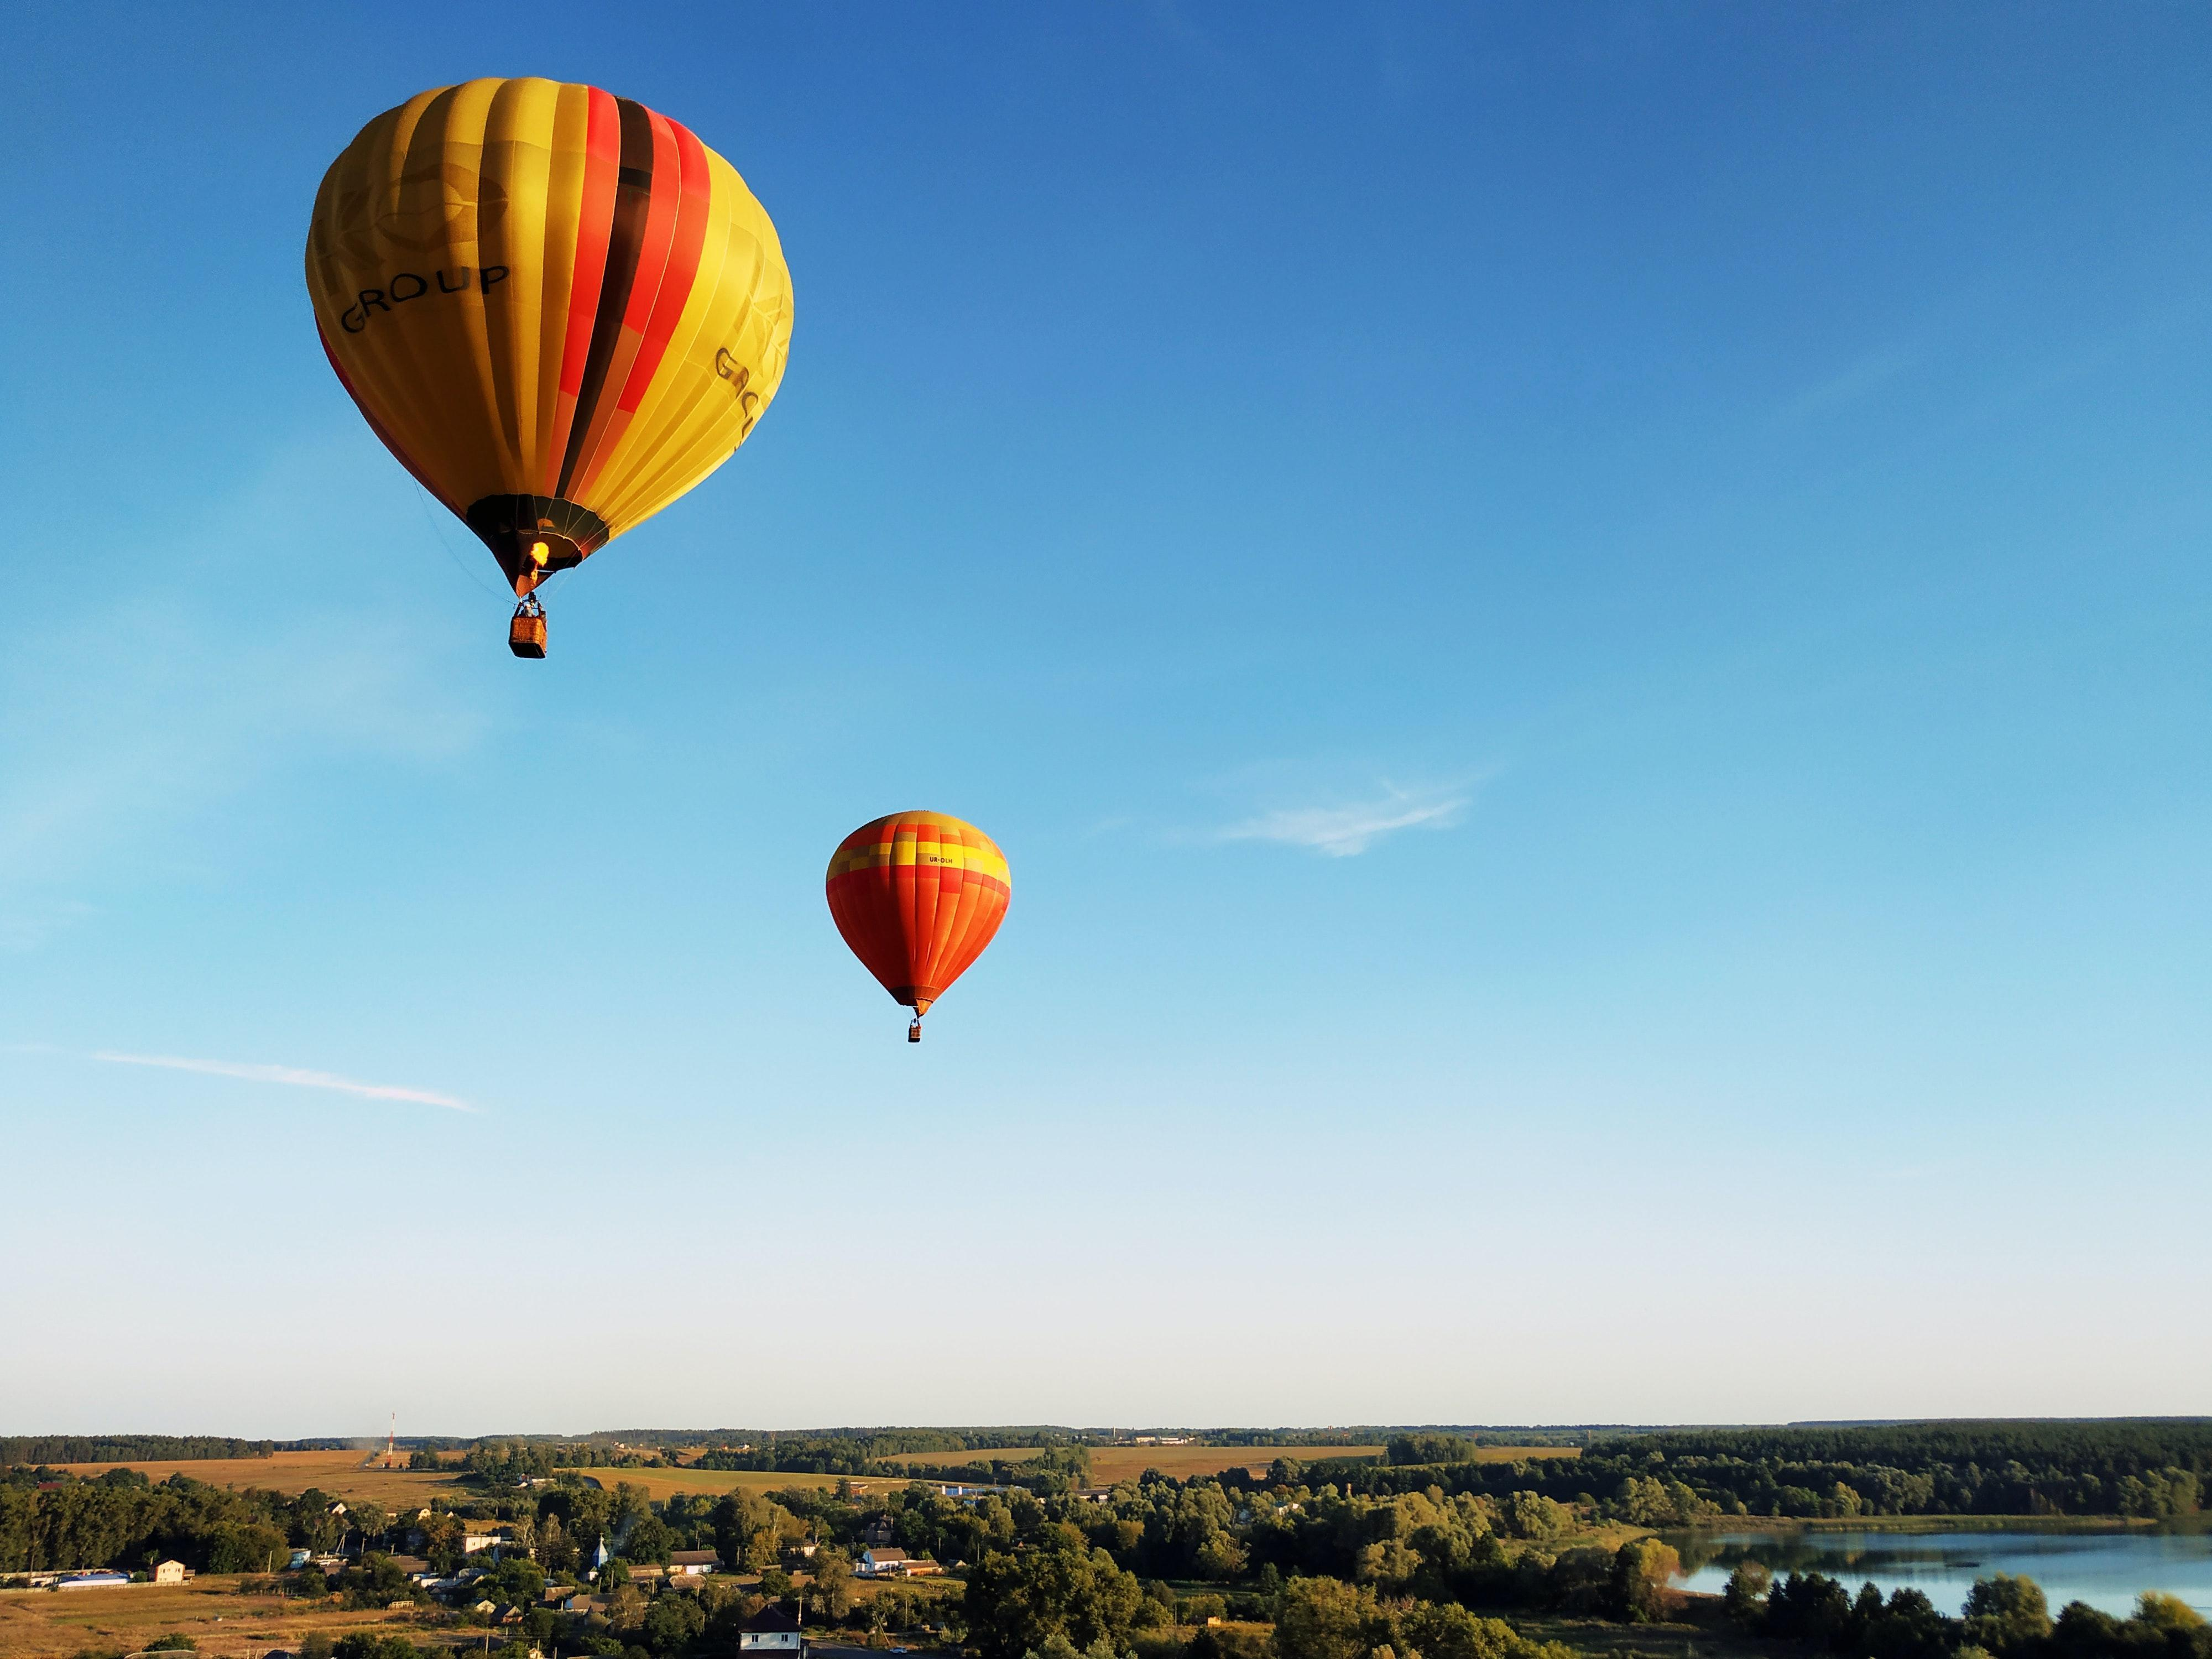hot air ballon: (307, 75, 796, 659), (824, 809, 1012, 1042)
